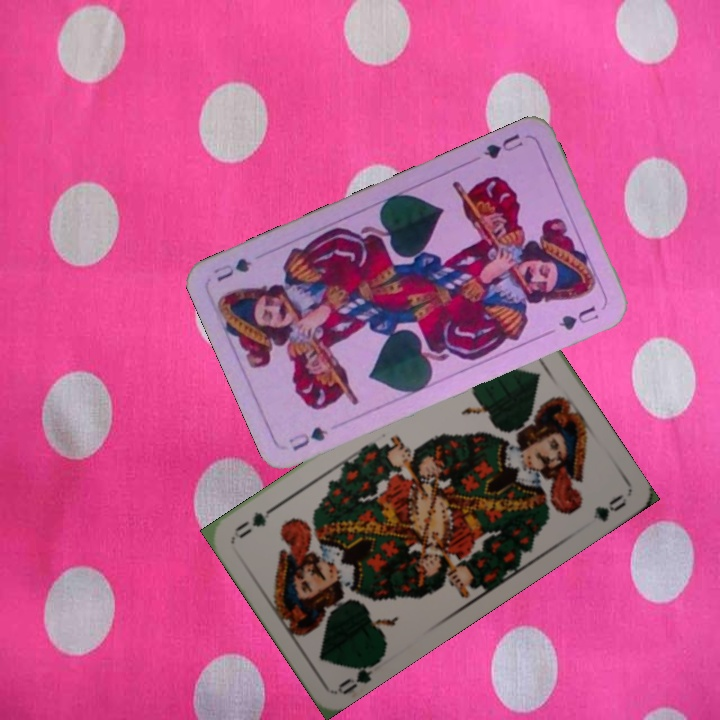GO: (334, 653, 385, 698)
GU: (479, 129, 526, 162), (284, 422, 331, 454)
